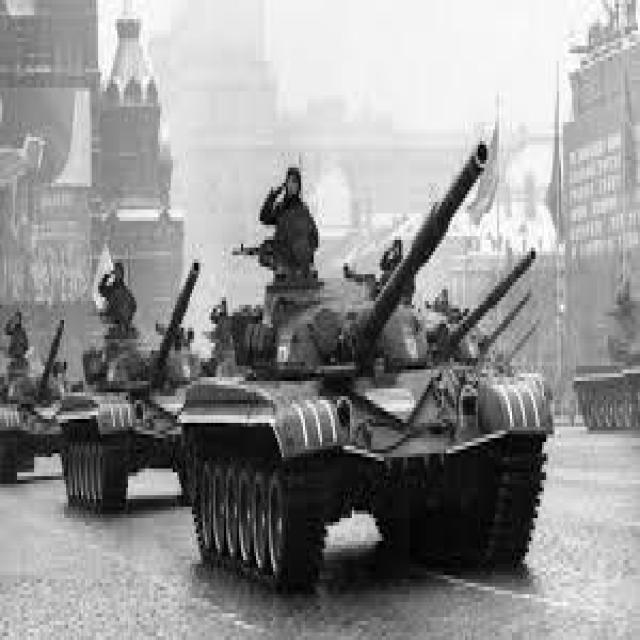MIL_MBT: (187, 116, 569, 634), (75, 215, 209, 566), (2, 185, 83, 585)
